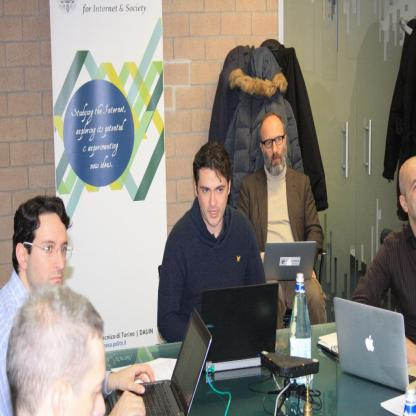board: (115, 308, 212, 416), (332, 296, 416, 395), (201, 282, 278, 374), (290, 272, 313, 388), (263, 242, 316, 281)
